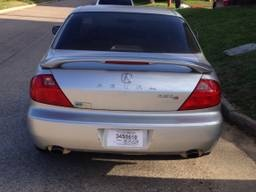acura: (23, 7, 230, 168)
